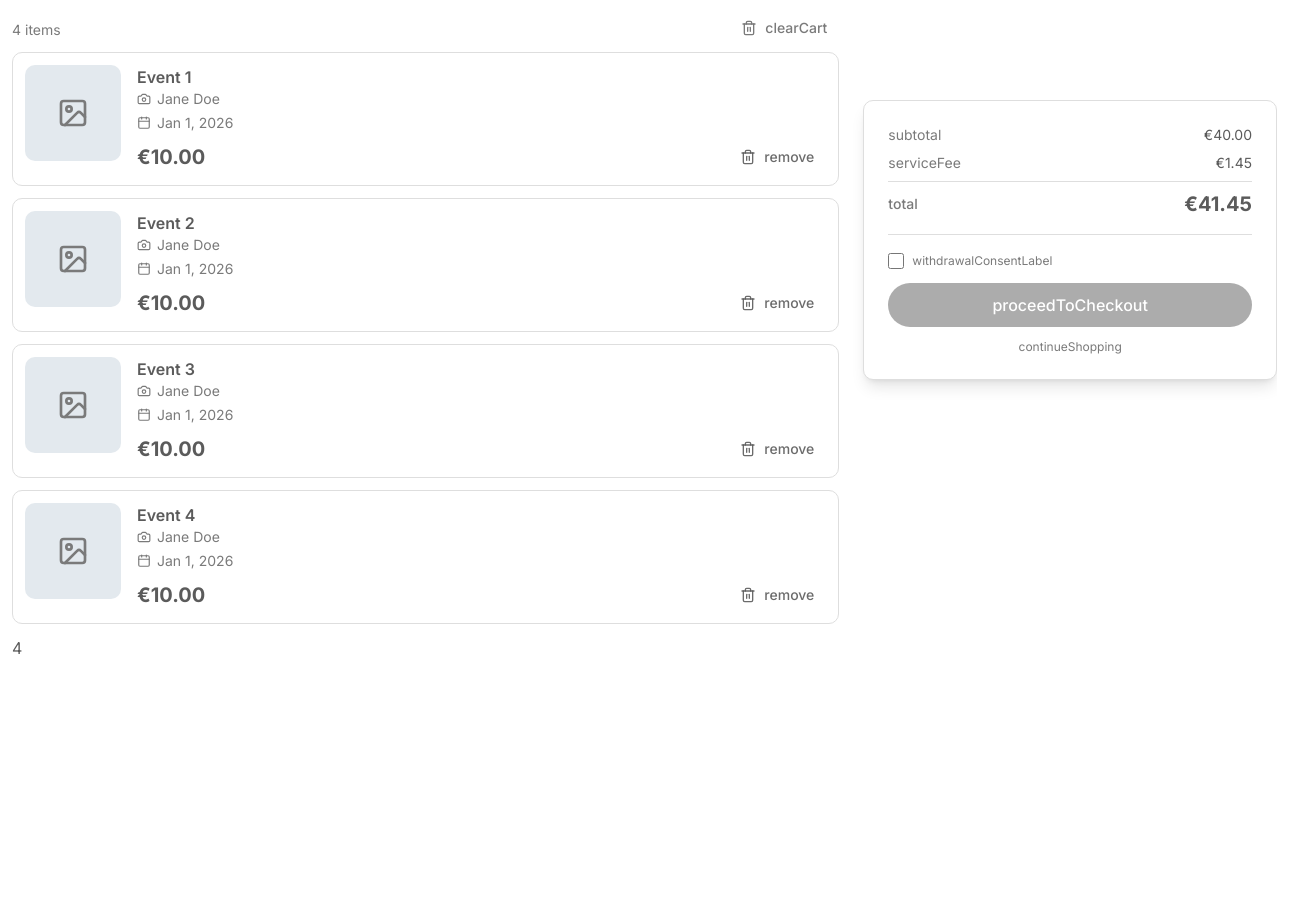
CartContent — nav count stays 0 after deleting all items (T-165) › a late, partial absolute count refetch cannot resurrect the nav count
Expected: the text with test id "nav-count" reads "4", [12, 638, 22, 658]
Click the 1st button "remove": point(777, 157) [728, 141, 826, 173]
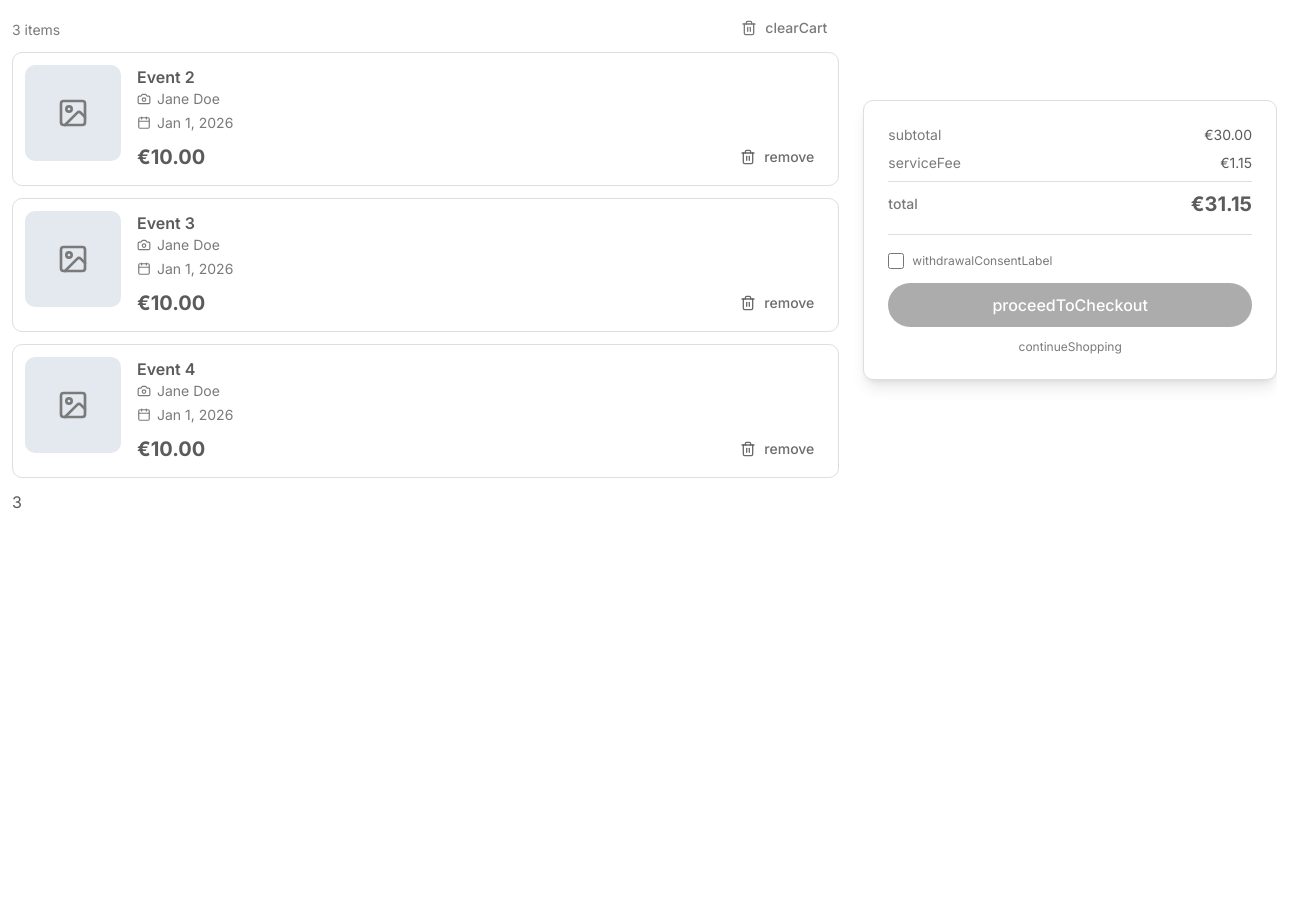
Click the 1st button "remove": point(777, 157) [728, 141, 826, 173]
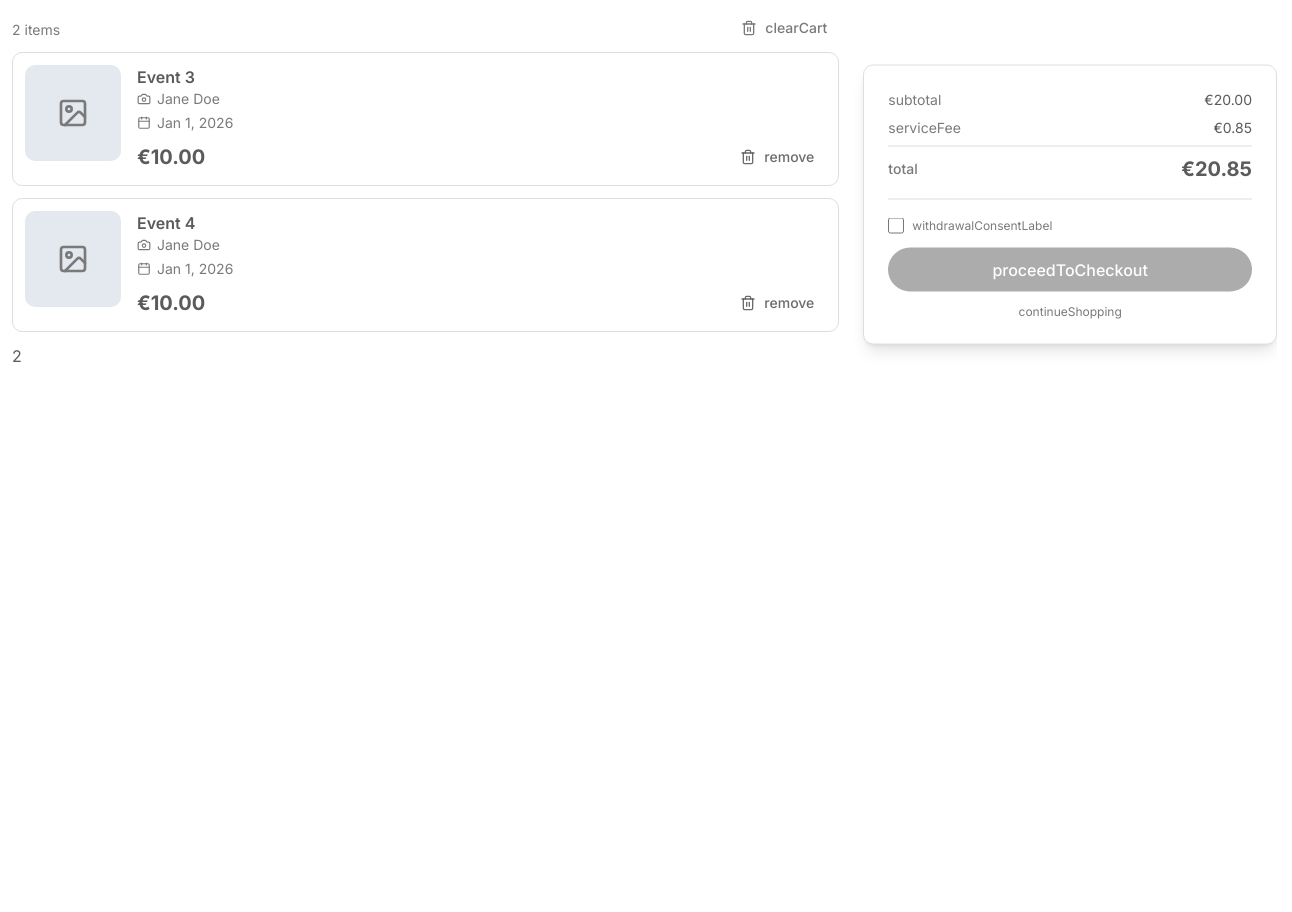
Click the 1st button "remove": point(777, 157) [728, 141, 826, 173]
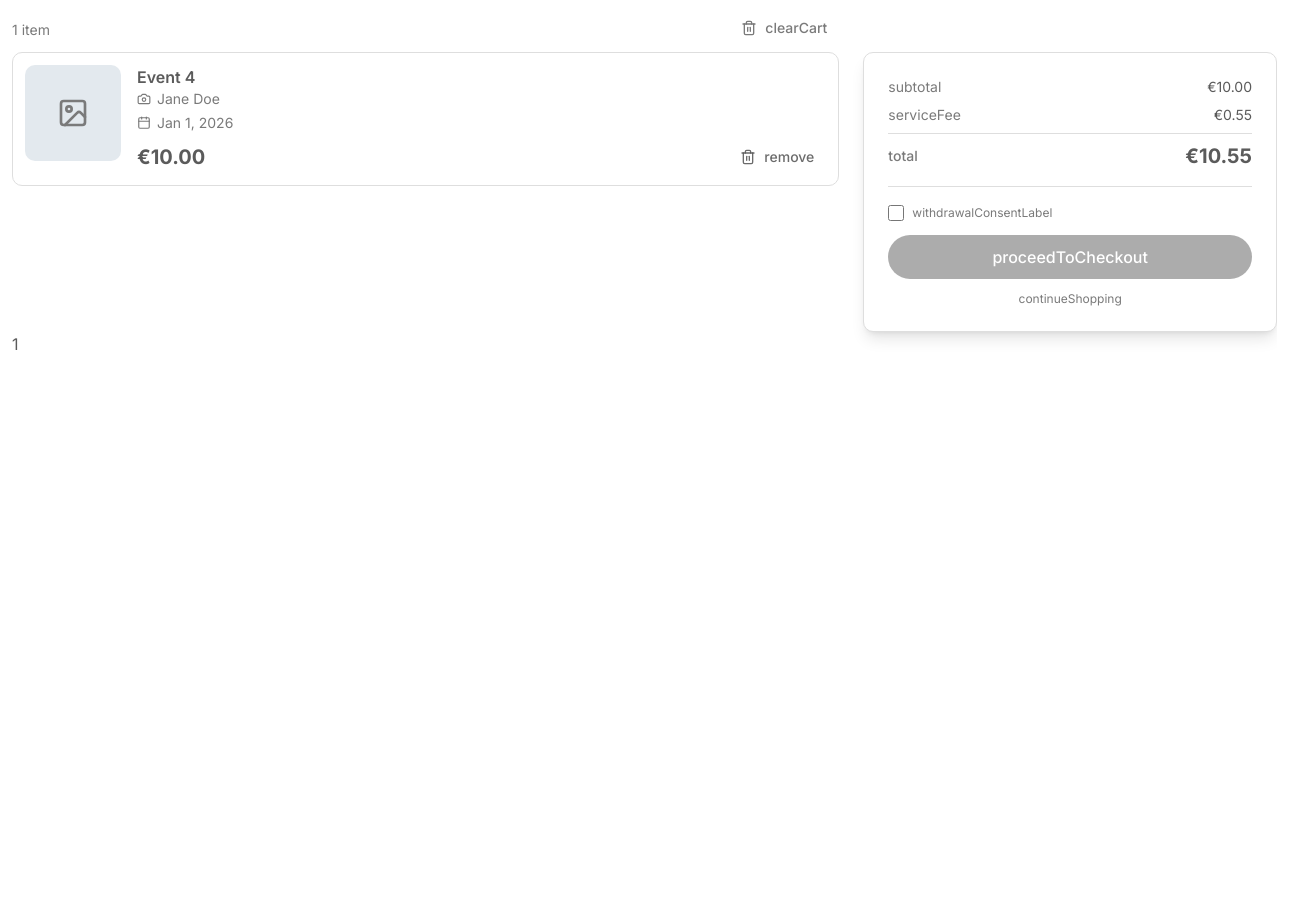
Click the button "remove": point(777, 157) [728, 141, 826, 173]
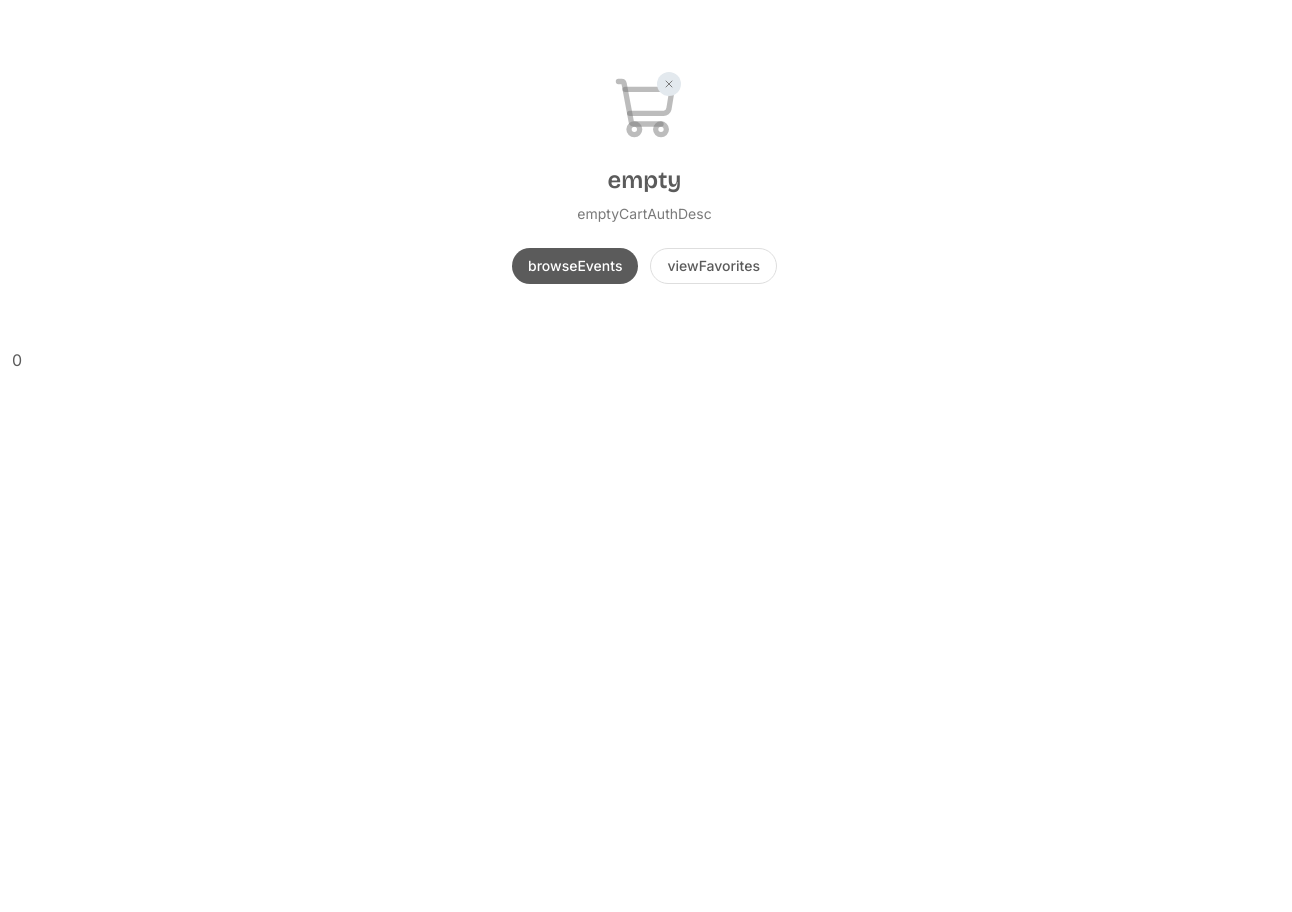
Result: the text with test id "nav-count" reads "0" at [12, 350, 22, 370]
